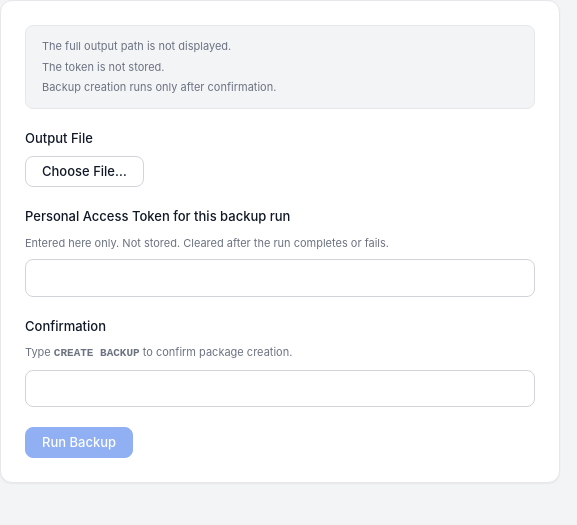
Scenario: BackupExecutionPanel — file picker › shows filename only after a valid path is picked — not the full path
This screenshot has width=577, height=525.
Click the button with test id "pick-output-path-button": x=84, y=172 x1=25 y1=156 x2=144 y2=187
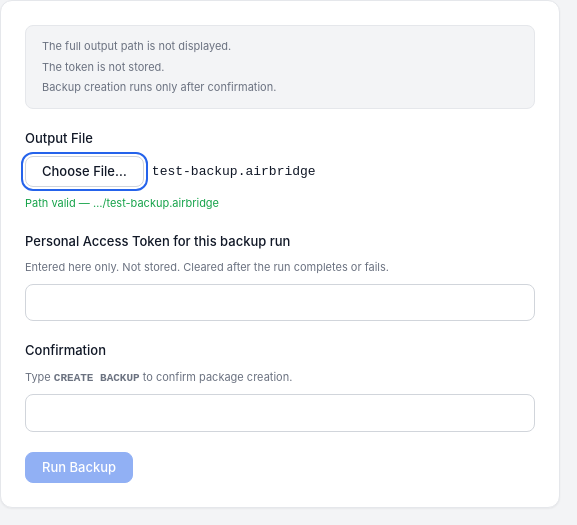
Check: the text "test-backup.airbridge" is shown, box x1=152 y1=162 x2=316 y2=181
Check: the text with test id "selected-filename-display" reads "test-backup.airbridge", box x1=152 y1=164 x2=316 y2=179
